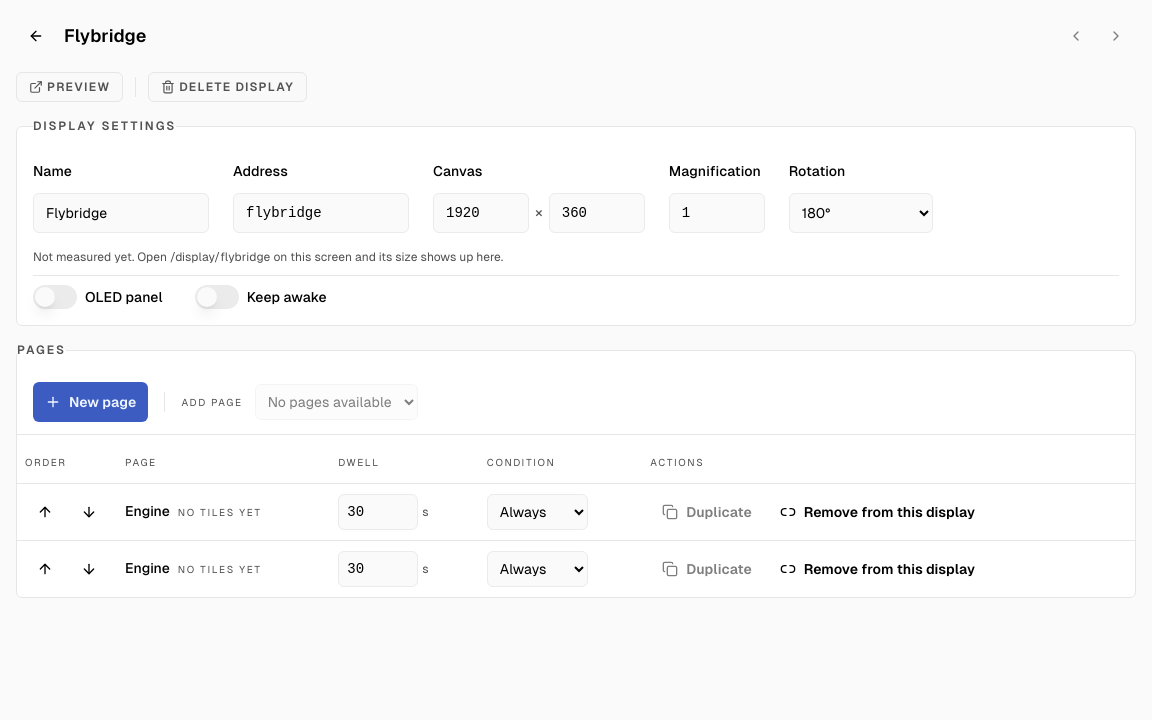
Test: DisplayEditorPanel › Delete display › names what survives, pluralized correctly
Click the button "Delete display". click: [228, 87]
box: 148,72 -> 307,102
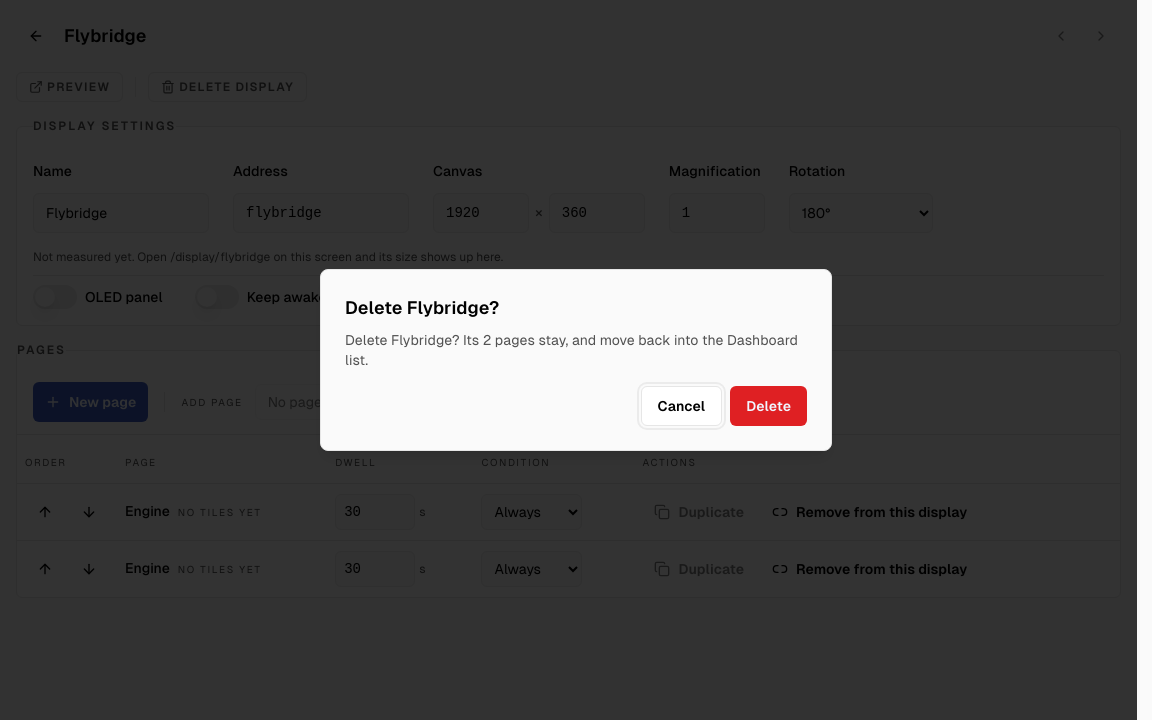
Expected: the text "Its 2 pages stay, and move back into the Dashboard list" is shown, 345,332 -> 798,368
